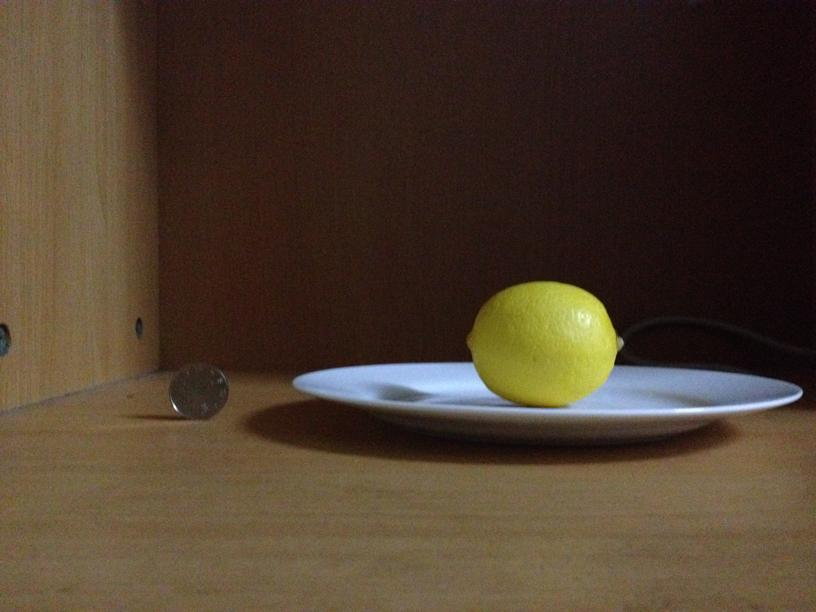coin: (166, 361, 228, 421)
lemon: (465, 278, 621, 404)
